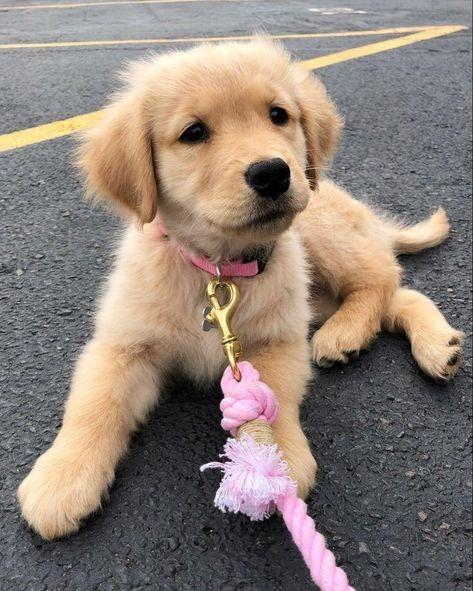puppy-dog: (18, 31, 464, 540)
